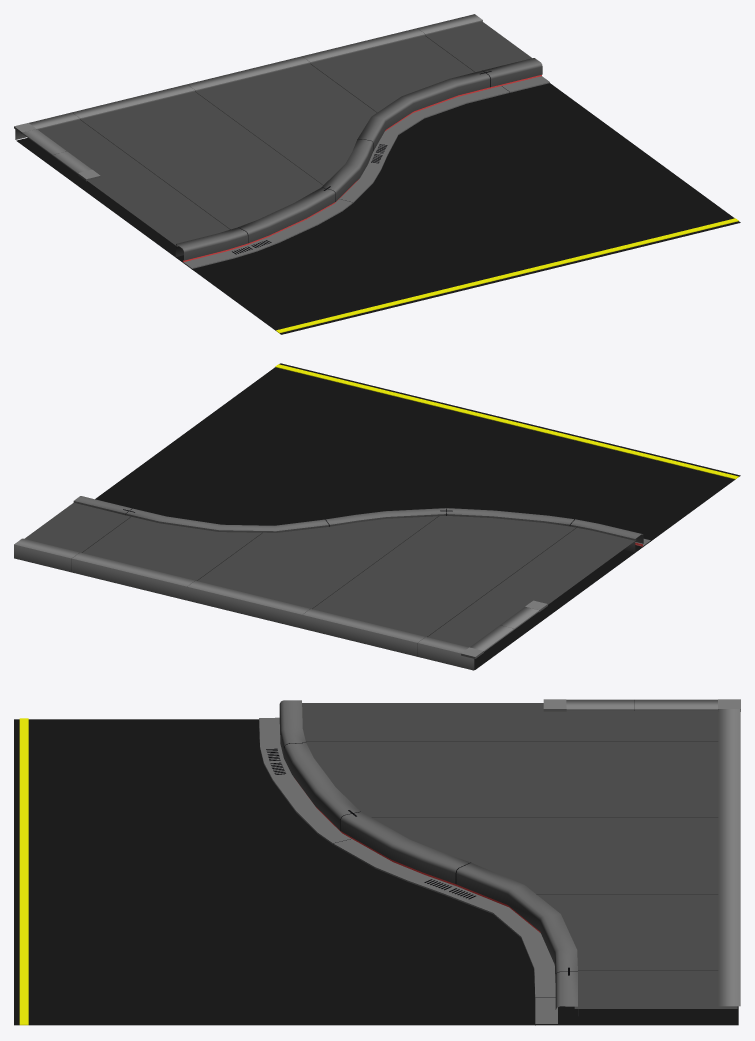
The picture shows the model from 3 angles, top to bottom: view 1: azimuth 30°, elevation 25°; view 2: azimuth 150°, elevation 25°; view 3: azimuth 270°, elevation 25°; orthographic projection. The views are drawn at different scales.
Visible parts, largest first — view 1: W_R_001_8x8_AB_L1; view 2: W_R_001_8x8_AB_L1; view 3: W_R_001_8x8_AB_L1.
Boxes of the visible parts, x1=… form: W_R_001_8x8_AB_L1: x1=14, y1=14, x2=740, y2=334; W_R_001_8x8_AB_L1: x1=14, y1=363, x2=740, y2=670; W_R_001_8x8_AB_L1: x1=14, y1=699, x2=740, y2=1025.
Size of the model in its own units: 8.02 by 0.2464 by 8.03.
